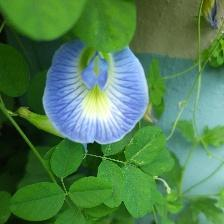shankupushpam: (39, 33, 153, 148)
